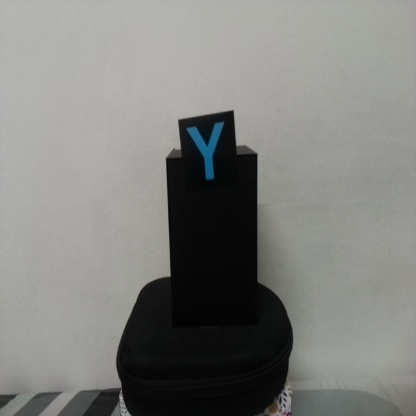id_14: (179, 120, 236, 190)
